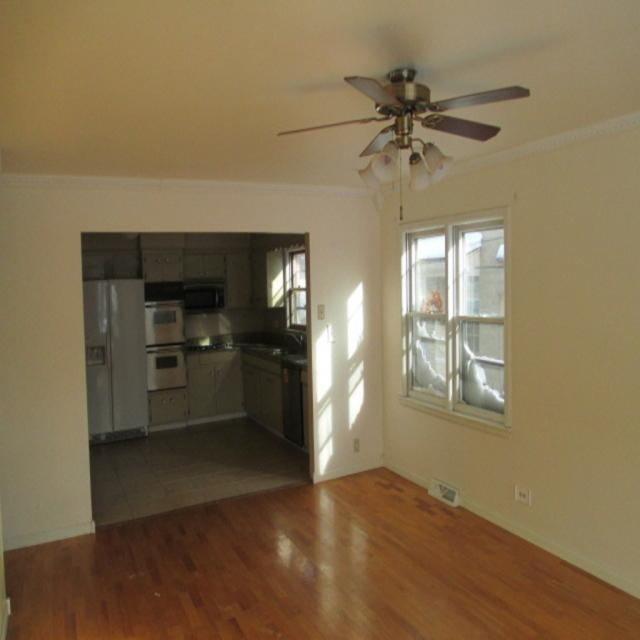fan_off: (279, 74, 525, 150)
